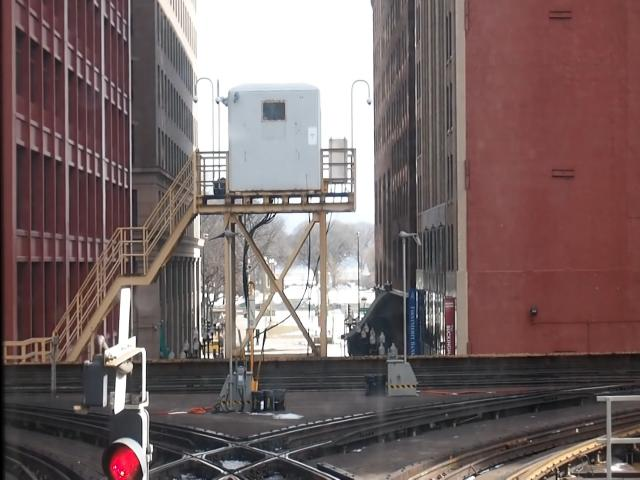signal light: (101, 407, 155, 480)
